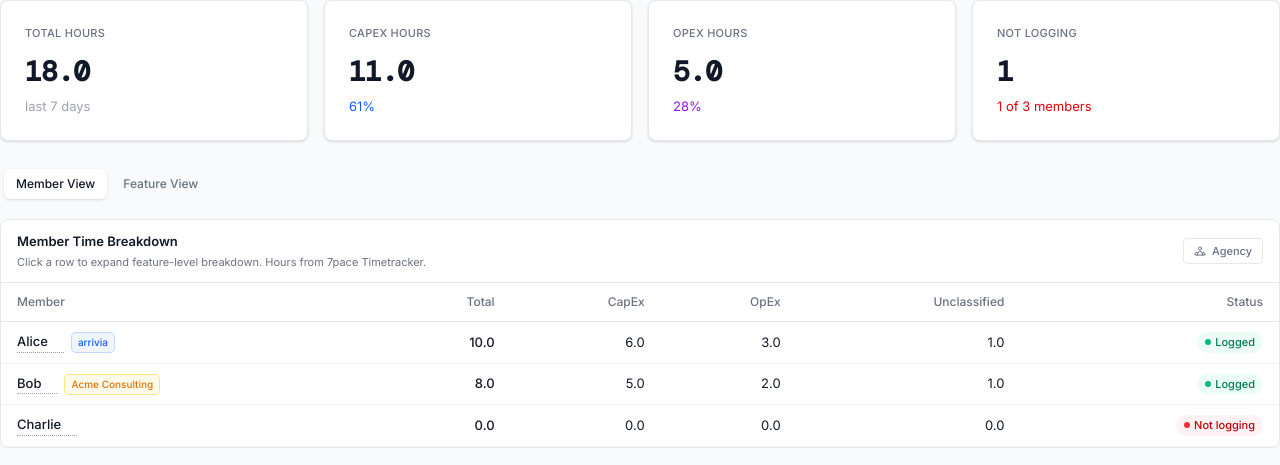
Test: TimeTrackingTab — agency filter dropdown › lists agencies in dropdown with FTE/Contractor badge and counts
The image size is (1280, 465).
Expected: the heading "Member Time Breakdown" is shown, [17, 233, 178, 249]
Click the button "Agency" at (1223, 251), box [1183, 238, 1263, 264]
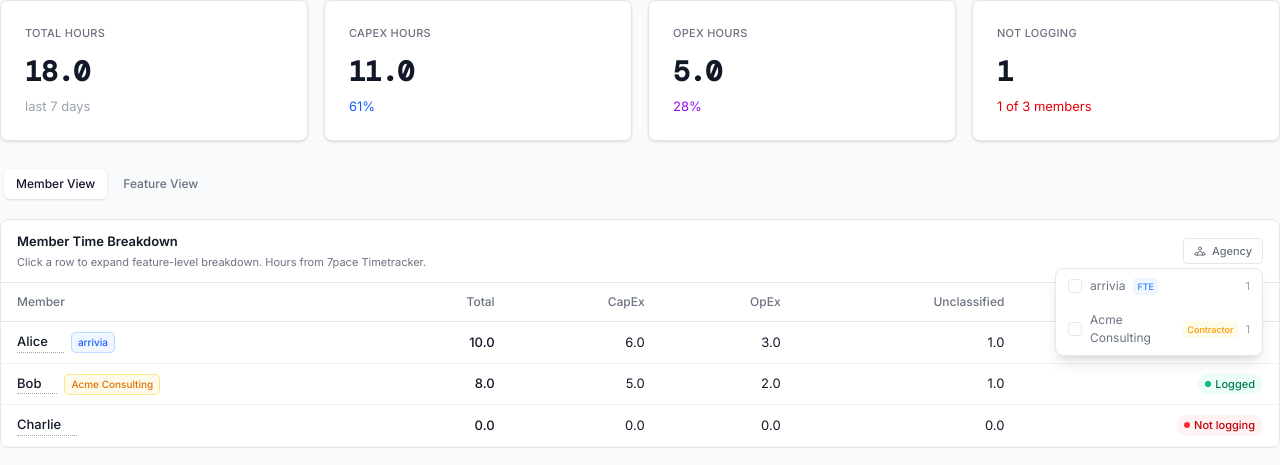
Expected: the text "FTE" is shown, [1133, 278, 1158, 295]
Expected: the text "Contractor" is shown, [1183, 320, 1238, 338]
